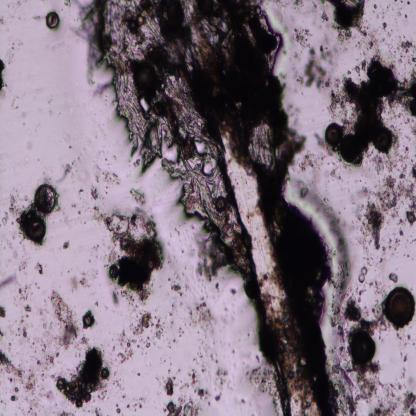Background material: (84, 0, 198, 162), (204, 0, 287, 127), (166, 148, 244, 271), (104, 211, 165, 305), (342, 58, 398, 155), (55, 346, 104, 407), (249, 113, 297, 168), (321, 353, 360, 416), (49, 289, 78, 352), (325, 0, 367, 42), (350, 200, 384, 251), (368, 173, 404, 218), (193, 230, 225, 280), (348, 360, 381, 404), (326, 76, 350, 126), (330, 262, 352, 316), (388, 68, 416, 108), (329, 212, 351, 262), (327, 316, 352, 357), (246, 368, 278, 400), (305, 47, 327, 92), (304, 187, 334, 218), (0, 349, 23, 383), (16, 201, 36, 239), (70, 0, 89, 38), (93, 163, 121, 186), (342, 295, 362, 323), (4, 38, 24, 65), (56, 159, 76, 184), (350, 318, 382, 333), (397, 178, 416, 202), (0, 58, 10, 100), (22, 369, 37, 397), (292, 28, 313, 48), (183, 396, 202, 416), (80, 269, 100, 287), (378, 379, 396, 398), (130, 186, 147, 206), (402, 392, 416, 416), (300, 149, 314, 173), (8, 193, 22, 217), (366, 407, 403, 416), (162, 401, 184, 416), (162, 376, 178, 396), (214, 367, 230, 387), (126, 397, 146, 413), (187, 368, 200, 392), (389, 123, 400, 150), (91, 204, 105, 225), (178, 379, 189, 404), (117, 348, 134, 364), (370, 156, 385, 174), (327, 147, 343, 163), (405, 201, 416, 224), (18, 284, 32, 302), (356, 186, 373, 200), (0, 274, 15, 289), (200, 312, 214, 328), (384, 154, 397, 171), (24, 396, 42, 408), (7, 0, 26, 11), (17, 257, 30, 273), (128, 304, 141, 320), (41, 167, 53, 184), (41, 321, 53, 338), (312, 153, 324, 169), (314, 134, 326, 150), (130, 322, 143, 336), (189, 310, 199, 328), (372, 299, 381, 319), (140, 311, 151, 327), (90, 185, 100, 202), (292, 0, 305, 13), (198, 387, 211, 400), (43, 355, 54, 370), (39, 391, 54, 402), (91, 244, 102, 259), (70, 276, 80, 292), (377, 397, 391, 408), (391, 396, 402, 410), (22, 323, 30, 342), (36, 338, 46, 353), (275, 0, 291, 9), (118, 329, 126, 347), (101, 366, 111, 380), (374, 280, 382, 297), (11, 95, 19, 112), (290, 62, 298, 79), (229, 285, 240, 297), (98, 380, 110, 391), (201, 339, 208, 357), (212, 392, 223, 403), (358, 288, 366, 303), (389, 272, 399, 284), (332, 44, 342, 56), (80, 336, 90, 348), (374, 46, 382, 61), (131, 156, 141, 168), (368, 28, 378, 40), (294, 48, 302, 62), (300, 186, 308, 200), (36, 260, 43, 276), (360, 58, 368, 72), (126, 338, 137, 348), (159, 354, 169, 365), (61, 409, 76, 416), (356, 39, 366, 49), (57, 206, 67, 216), (195, 303, 207, 311), (328, 56, 336, 68), (0, 328, 6, 344), (366, 256, 374, 268), (74, 346, 81, 359), (64, 0, 73, 10), (320, 50, 330, 59), (4, 239, 13, 249), (2, 212, 8, 227), (278, 70, 287, 80), (411, 162, 416, 180), (28, 407, 38, 416), (62, 240, 70, 251), (0, 16, 8, 27), (201, 361, 207, 375), (362, 306, 369, 318), (395, 379, 402, 391), (390, 60, 397, 72), (173, 272, 182, 281), (23, 304, 32, 313), (47, 337, 55, 347), (400, 367, 406, 380), (322, 11, 328, 24), (324, 35, 331, 46), (144, 337, 151, 348), (0, 307, 7, 318), (170, 285, 182, 291), (116, 383, 125, 391), (153, 331, 161, 340), (410, 123, 416, 135), (378, 331, 384, 342), (254, 353, 260, 364), (325, 77, 331, 88), (9, 325, 15, 336), (297, 74, 303, 85), (394, 332, 402, 340), (330, 170, 338, 178), (36, 308, 44, 316), (280, 24, 288, 32), (10, 394, 18, 402), (405, 40, 412, 49), (33, 15, 42, 22), (15, 328, 22, 337), (398, 219, 407, 226), (116, 403, 121, 415), (26, 141, 32, 151), (151, 336, 157, 346), (13, 249, 19, 259), (178, 328, 184, 338), (401, 40, 406, 52), (402, 163, 408, 173), (356, 65, 361, 77), (176, 290, 184, 297), (155, 323, 162, 331), (212, 283, 220, 290), (239, 398, 246, 406), (184, 282, 189, 293), (368, 279, 374, 288), (62, 216, 68, 225), (154, 375, 160, 384), (174, 227, 180, 236), (44, 300, 48, 313), (190, 248, 195, 258), (320, 154, 327, 161), (48, 108, 54, 116), (402, 338, 408, 346), (70, 203, 78, 209), (172, 303, 178, 311), (372, 38, 378, 46), (404, 152, 410, 160), (34, 282, 40, 290), (170, 320, 176, 328), (382, 290, 388, 298), (380, 246, 386, 254), (362, 30, 368, 38), (373, 388, 378, 397), (109, 356, 114, 365), (392, 109, 397, 118), (23, 245, 27, 256), (382, 22, 386, 33), (408, 377, 415, 383), (138, 336, 144, 343), (197, 352, 203, 359), (383, 60, 389, 67), (398, 155, 404, 162), (395, 238, 401, 245), (30, 355, 36, 362), (190, 223, 196, 230), (354, 286, 358, 296), (95, 408, 100, 416), (140, 346, 144, 356), (20, 408, 25, 416), (405, 135, 411, 141), (20, 316, 24, 325), (100, 396, 106, 402), (388, 246, 394, 252), (166, 369, 172, 375), (14, 387, 20, 393), (176, 368, 182, 374), (388, 238, 393, 245), (22, 112, 27, 119), (397, 10, 402, 17), (282, 49, 287, 56), (343, 46, 348, 53), (388, 43, 393, 50), (24, 195, 29, 202), (396, 43, 400, 51), (204, 291, 208, 299), (211, 354, 215, 362), (25, 156, 29, 164), (404, 354, 408, 362), (366, 248, 370, 256), (313, 1, 317, 9), (375, 264, 379, 272), (411, 57, 416, 63), (400, 172, 405, 178), (319, 46, 324, 52), (363, 51, 369, 56), (294, 86, 299, 92), (347, 70, 352, 76), (172, 338, 177, 344), (402, 119, 408, 124), (338, 174, 343, 180), (404, 48, 410, 53), (169, 311, 174, 317), (179, 222, 185, 227), (413, 44, 416, 54), (399, 51, 403, 58), (166, 257, 170, 264), (398, 112, 402, 119), (232, 348, 236, 355), (400, 230, 404, 237), (167, 342, 171, 349), (48, 98, 52, 105), (408, 59, 412, 66), (406, 333, 410, 340), (68, 145, 73, 150), (51, 375, 56, 380), (331, 161, 336, 166), (387, 32, 391, 38), (94, 302, 100, 306), (398, 58, 402, 64), (150, 321, 154, 327), (76, 156, 80, 162), (384, 119, 388, 125), (412, 140, 416, 146), (207, 308, 211, 314), (201, 296, 205, 302), (378, 257, 382, 263), (114, 155, 118, 161), (404, 63, 406, 74), (216, 358, 219, 365), (10, 221, 14, 226), (167, 242, 171, 247), (335, 166, 340, 170), (179, 302, 183, 307), (398, 35, 402, 40), (181, 249, 185, 254), (22, 121, 26, 126), (402, 383, 406, 388), (374, 4, 378, 9), (12, 235, 16, 240), (122, 394, 127, 398), (192, 357, 196, 362), (78, 189, 82, 194), (388, 50, 392, 55), (157, 346, 162, 350), (386, 4, 390, 9), (387, 110, 391, 115), (136, 344, 140, 349), (82, 409, 87, 413), (393, 246, 396, 252), (78, 210, 81, 216), (382, 10, 385, 16), (370, 41, 373, 47), (42, 0, 45, 6), (402, 113, 405, 119), (406, 146, 409, 152), (170, 232, 173, 238), (67, 270, 71, 274), (93, 395, 95, 403), (410, 159, 414, 163), (104, 158, 108, 162), (104, 306, 108, 310), (412, 238, 416, 242), (224, 308, 228, 312), (401, 108, 405, 112), (391, 252, 395, 256), (410, 287, 414, 291), (109, 352, 113, 356), (25, 314, 29, 318), (404, 14, 408, 18), (382, 38, 386, 42), (56, 353, 60, 357), (388, 55, 392, 59), (399, 352, 403, 356), (36, 360, 40, 364), (212, 340, 215, 345), (320, 0, 325, 3), (402, 34, 405, 39), (112, 380, 115, 385), (376, 14, 379, 19), (367, 24, 370, 29), (407, 118, 410, 123), (409, 171, 412, 176), (100, 343, 103, 348), (382, 15, 385, 20), (0, 370, 3, 375), (32, 341, 35, 346), (400, 163, 403, 168), (412, 119, 415, 124), (407, 254, 410, 258), (3, 402, 7, 405), (10, 378, 12, 384), (83, 221, 87, 224), (404, 150, 407, 154), (137, 372, 140, 376), (154, 316, 157, 320), (112, 346, 115, 350), (114, 372, 117, 376), (338, 211, 341, 215), (19, 242, 23, 245), (407, 1, 410, 5), (167, 278, 171, 281), (397, 168, 400, 172), (208, 402, 211, 406), (182, 272, 185, 276), (0, 400, 4, 403), (1, 412, 4, 416), (392, 5, 394, 11), (400, 122, 403, 126), (6, 29, 10, 32), (413, 178, 416, 182), (410, 224, 413, 228), (393, 55, 396, 59), (297, 171, 300, 175), (101, 392, 104, 396), (160, 328, 164, 331), (390, 116, 393, 120), (88, 259, 91, 263), (359, 178, 362, 182), (343, 206, 346, 210), (170, 362, 172, 367), (397, 27, 399, 32), (103, 349, 105, 354), (158, 319, 160, 324), (378, 177, 380, 182), (98, 395, 100, 400), (42, 373, 44, 378), (400, 0, 403, 3), (356, 58, 359, 61), (184, 267, 187, 270), (363, 26, 366, 29), (406, 239, 409, 242), (407, 55, 410, 58), (34, 350, 37, 353), (383, 110, 386, 113), (162, 322, 165, 325), (104, 390, 107, 393), (363, 257, 366, 260), (15, 413, 18, 416), (403, 254, 406, 257), (325, 47, 328, 50), (99, 408, 102, 411), (396, 20, 398, 24), (106, 186, 108, 190), (400, 226, 402, 230), (116, 379, 118, 383), (197, 330, 199, 334), (404, 55, 406, 59), (348, 188, 350, 192), (42, 378, 44, 382), (368, 47, 372, 49), (399, 128, 401, 132), (201, 288, 203, 292), (92, 410, 94, 414), (413, 342, 415, 346), (55, 402, 57, 406), (380, 4, 382, 8), (373, 186, 377, 188), (158, 314, 160, 318), (164, 315, 166, 319), (412, 258, 415, 260), (394, 18, 397, 20), (396, 245, 398, 248), (88, 410, 90, 413), (411, 54, 413, 57), (408, 71, 411, 73), (366, 48, 369, 50), (373, 10, 375, 13), (107, 344, 110, 346), (409, 242, 412, 244), (9, 343, 11, 346), (105, 192, 108, 194), (42, 388, 44, 391), (391, 29, 393, 32), (392, 38, 394, 41), (74, 410, 77, 412), (366, 20, 368, 23), (42, 406, 44, 409), (37, 385, 39, 388), (368, 42, 370, 45), (379, 40, 382, 42), (385, 42, 387, 45), (410, 235, 413, 237), (386, 222, 389, 224), (397, 153, 399, 156), (166, 338, 168, 341), (106, 414, 109, 416), (150, 329, 152, 332), (161, 332, 163, 334), (164, 326, 166, 328), (393, 14, 395, 16), (145, 352, 147, 354), (101, 197, 103, 199), (328, 163, 330, 165), (399, 132, 401, 134), (400, 7, 402, 9), (394, 51, 396, 53), (394, 233, 396, 235), (396, 256, 398, 258), (364, 182, 366, 184), (107, 397, 109, 399), (119, 378, 121, 380), (379, 33, 381, 35), (403, 145, 405, 147), (162, 335, 164, 337), (115, 359, 117, 361), (5, 392, 7, 394), (394, 0, 397, 1), (399, 73, 400, 76), (415, 154, 416, 157), (415, 64, 416, 67), (413, 32, 416, 33), (20, 364, 21, 367), (106, 393, 107, 396), (7, 378, 10, 379), (396, 252, 398, 253), (401, 133, 403, 134), (109, 332, 110, 334), (112, 339, 113, 341), (412, 232, 414, 233)
Diatom: (381, 287, 416, 331), (351, 332, 376, 364), (34, 181, 56, 216), (24, 215, 48, 245), (133, 61, 155, 92), (341, 134, 361, 162), (326, 121, 344, 149), (375, 129, 392, 153), (45, 12, 60, 30), (83, 313, 95, 328), (144, 258, 155, 272), (409, 97, 416, 115), (361, 267, 368, 275), (359, 274, 365, 282)
Microfibre: (221, 148, 339, 416)
